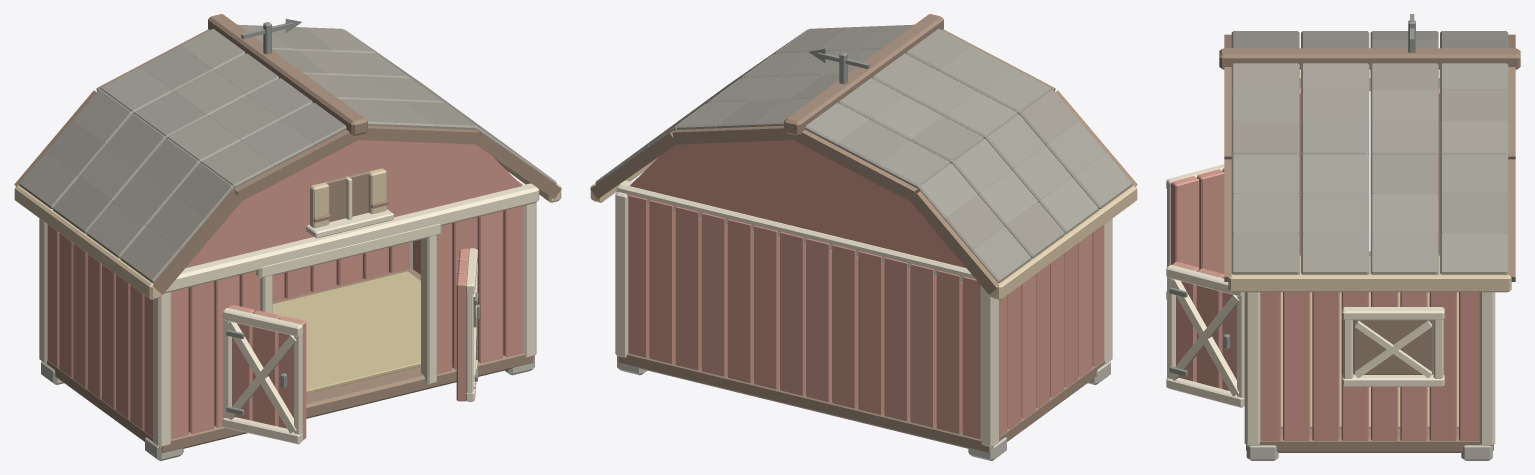
The model's file is crafted-barn-2-ready.glb.
The picture shows the model from 3 angles, left to right: view 1: azimuth 30°, elevation 25°; view 2: azimuth 150°, elevation 25°; view 3: azimuth 270°, elevation 25°; orthographic projection. The views are drawn at different scales.
Parts seen in each view (by area): view 1: gable-1, hay-floor, header-1, floor, siding-31, siding-36, ridge-cap, siding-37, corner-post-1, siding-30, eave-fascia, siding-34 (+74 smaller); view 2: gable, floor, siding-12, siding-1, siding-11, siding-2, siding-9, siding-4, siding-3, siding-5, siding-10, siding-8 (+57 smaller); view 3: eave-fascia-1, ridge-cap, siding-27, siding-28, side-window-dark, siding-22, siding-29, siding-23, roof-tile-45, roof-tile-46, roof-tile-44, roof-tile-47 (+58 smaller).
Part boxes in pixels (x1,y1,x2,y2): gable-1: (185, 140, 521, 268); hay-floor: (272, 271, 420, 393); header-1: (164, 183, 539, 293); floor: (41, 269, 533, 452); siding-31: (188, 281, 214, 434); siding-36: (477, 211, 503, 363); ridge-cap: (208, 14, 367, 135); siding-37: (503, 206, 523, 357); corner-post-1: (153, 292, 171, 447); siding-30: (171, 287, 188, 439); eave-fascia: (14, 185, 161, 299); siding-34: (437, 223, 452, 374); gable: (630, 140, 966, 268); floor: (618, 353, 1110, 452); siding-12: (649, 200, 675, 363); siding-1: (936, 270, 962, 433); siding-11: (675, 206, 701, 370); siding-2: (910, 264, 936, 427); siding-9: (727, 219, 753, 382); siding-4: (858, 251, 884, 414); siding-3: (884, 257, 910, 421); siding-5: (832, 244, 858, 408); siding-10: (701, 213, 727, 376); siding-8: (754, 225, 779, 389); eave-fascia-1: (1228, 271, 1511, 292); ridge-cap: (1219, 48, 1520, 69); siding-27: (1312, 292, 1339, 440); siding-28: (1283, 292, 1310, 440); side-window-dark: (1353, 320, 1433, 374); siding-22: (1459, 292, 1479, 440); siding-29: (1260, 292, 1280, 440); siding-23: (1429, 292, 1456, 440); roof-tile-45: (1370, 233, 1438, 274); roof-tile-46: (1301, 233, 1369, 274); roof-tile-44: (1440, 233, 1508, 274); roof-tile-47: (1231, 233, 1299, 274).
Size of the model in its own units: 2.93 by 2.28 by 2.12.
